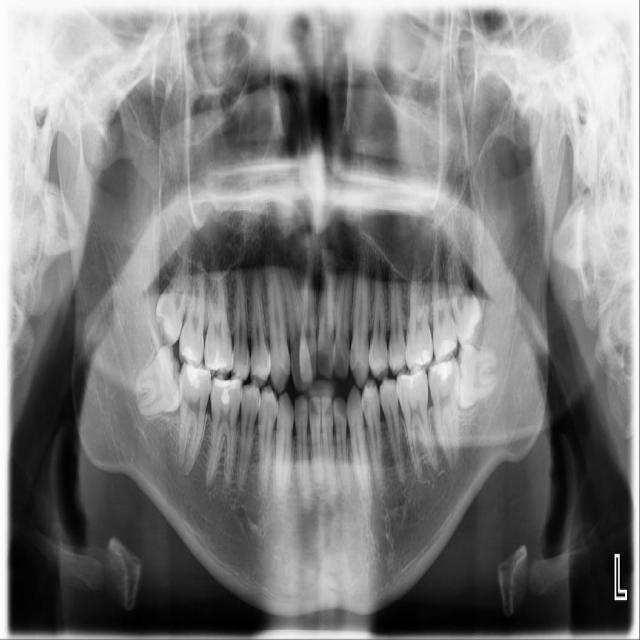3M ESPE Implant: (149, 230, 201, 350)
52: (430, 356, 458, 383), (398, 361, 424, 388), (203, 349, 229, 375), (432, 336, 458, 362), (184, 366, 208, 390), (179, 345, 201, 369), (414, 348, 435, 370), (214, 378, 237, 389), (220, 386, 230, 405)
73: (583, 590, 589, 606)
BioHorizons Implant: (431, 240, 459, 364)
BioLife Implant: (437, 239, 490, 351)
Biomet 3i Implant: (453, 342, 499, 411)
Blue Sky Bio Implant: (427, 353, 463, 469)
Caries: (178, 257, 206, 369)
Implant: (177, 361, 212, 475)
Keystone Dental Implant: (130, 342, 187, 420)
